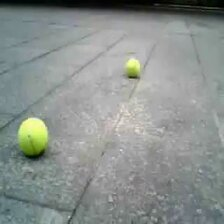tennis: (17, 118, 46, 153), (125, 58, 142, 77)
